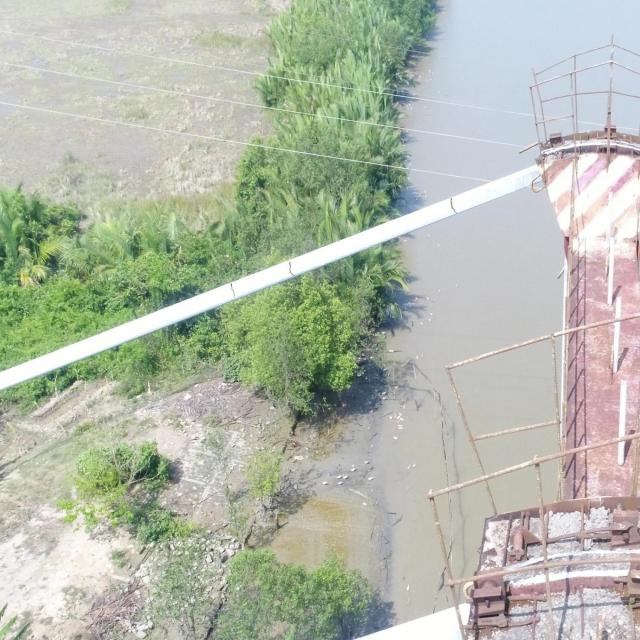crack: (450, 197, 458, 214), (288, 261, 296, 277), (230, 282, 236, 300)
